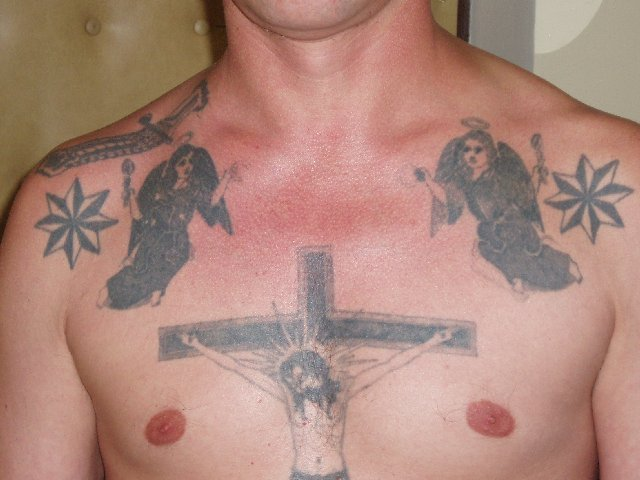tatu1_angel: (400, 108, 577, 314), (108, 147, 234, 312)
tatu4_zvezda: (32, 180, 120, 265)
tatu9_krest: (544, 157, 633, 241)
